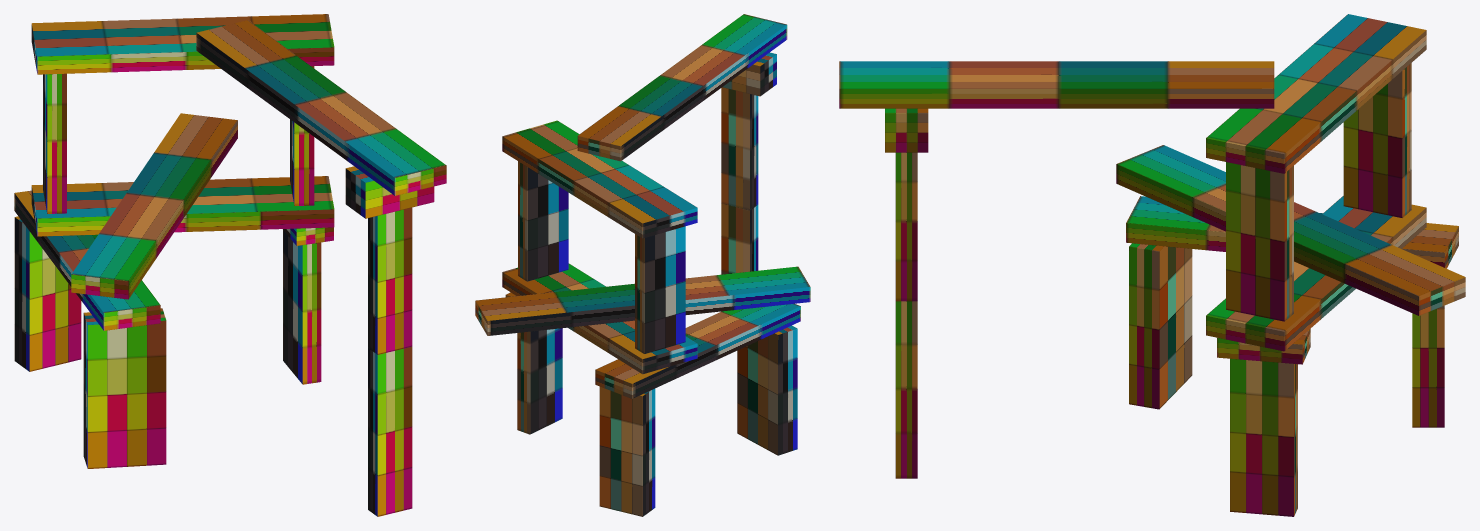
File: M1_Dynamic1Wood_2kg.fbx
3 views of the same model, side by side, from view 1: azimuth 30°, elevation 25°; view 2: azimuth 150°, elevation 25°; view 3: azimuth 270°, elevation 25° (orthographic). The views are drawn at different scales.
Parts seen in each view (by area): view 1: D1Box10, D1Box14, D1Box9, D1Box3, D1Box6, D1Box2, D1Box13, D1Box12, D1Box1, D1Box5, D1Box7, D1Box11 (+2 smaller); view 2: D1Box14, D1Box10, D1Box9, D1Box2, D1Box3, D1Box5, D1Box7, D1Box8, D1Box6, D1Box1, D1Box12, D1Box13 (+1 smaller); view 3: D1Box10, D1Box9, D1Box14, D1Box1, D1Box8, D1Box3, D1Box7, D1Box6, D1Box5, D1Box13, D1Box2, D1Box12 (+2 smaller).
Boxes of the visible parts, x1,y1,x2,y2 form: D1Box10: (196, 20, 446, 195); D1Box14: (71, 113, 237, 299); D1Box9: (31, 14, 334, 74); D1Box3: (83, 308, 166, 468); D1Box6: (31, 176, 334, 236); D1Box2: (14, 216, 81, 371); D1Box13: (368, 346, 412, 516); D1Box12: (368, 207, 412, 354); D1Box1: (283, 230, 321, 384); D1Box5: (14, 190, 160, 330); D1Box7: (43, 73, 66, 213); D1Box11: (345, 166, 434, 218); D1Box14: (475, 266, 810, 335); D1Box10: (577, 14, 787, 161); D1Box9: (502, 120, 697, 238); D1Box2: (599, 386, 655, 516); D1Box3: (737, 325, 797, 455); D1Box5: (595, 303, 800, 398); D1Box7: (635, 226, 685, 353); D1Box8: (518, 161, 568, 281); D1Box6: (502, 263, 697, 374); D1Box1: (517, 328, 562, 434); D1Box12: (721, 87, 758, 210); D1Box13: (721, 203, 758, 274); D1Box10: (839, 61, 1274, 108); D1Box9: (1206, 14, 1426, 173); D1Box14: (1116, 145, 1465, 315); D1Box1: (1230, 358, 1297, 516); D1Box8: (1226, 162, 1293, 321); D1Box3: (1129, 243, 1192, 409); D1Box7: (1343, 63, 1411, 217); D1Box6: (1206, 196, 1426, 351); D1Box5: (1126, 196, 1458, 268); D1Box13: (895, 301, 917, 478); D1Box2: (1412, 305, 1444, 427); D1Box12: (895, 152, 917, 301).
Size of what is drawn, in the model's own units: 18.17 by 20 by 28.79.
